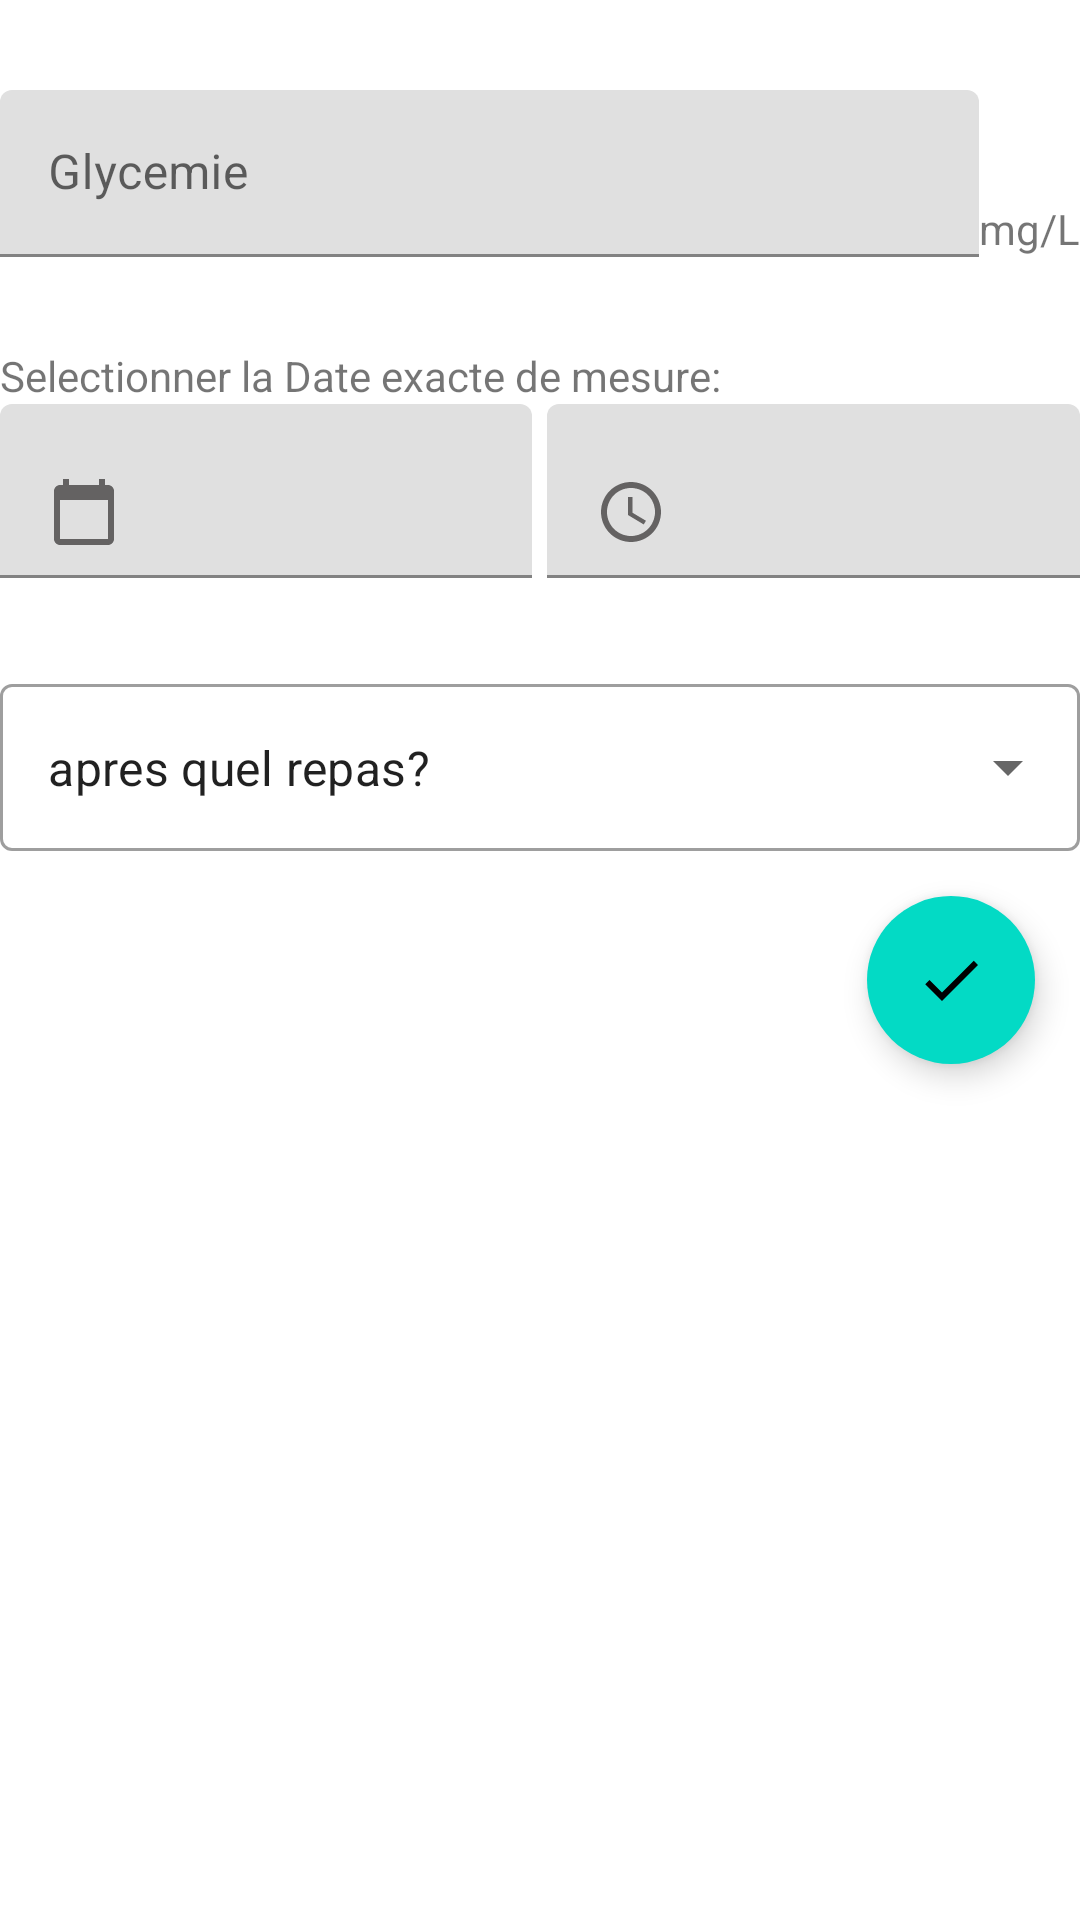

Screen size 1080px×1920px. Icon name, then its center in pixels as point (x, y):
check: point (951, 980)
